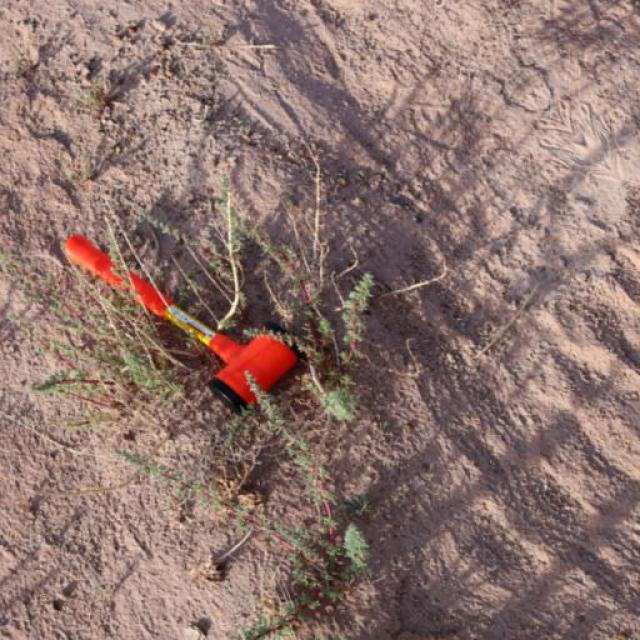mallet: (60, 231, 302, 415)
